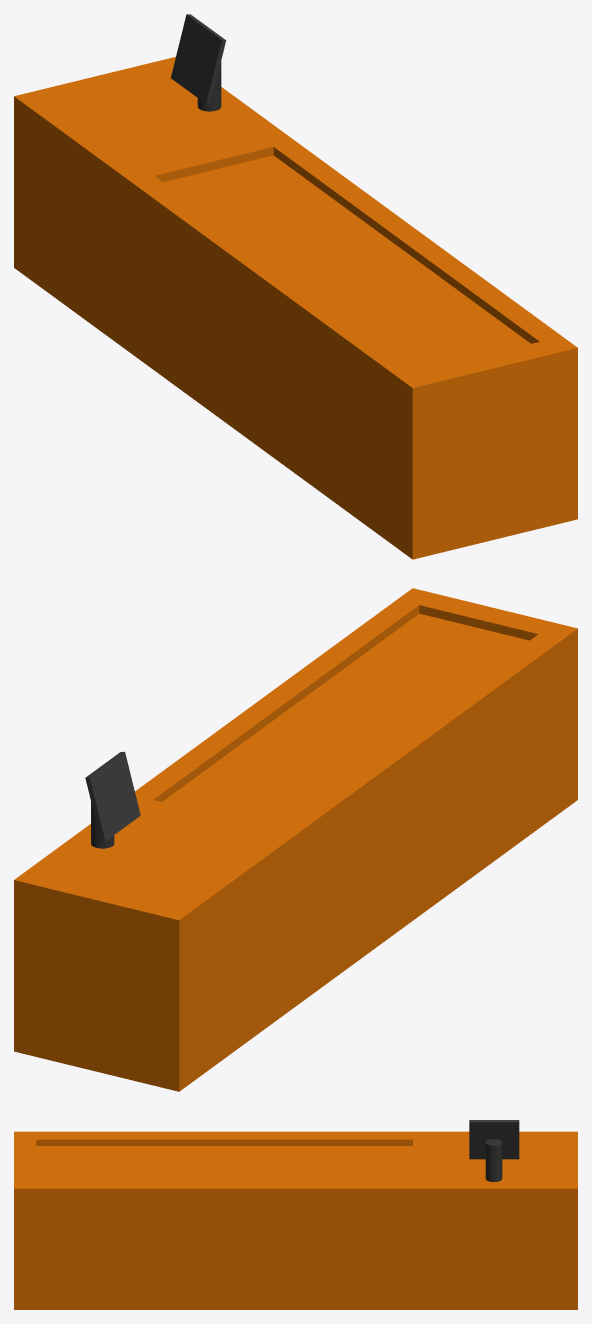
Rendered from cashthing.fbx.
3 views of the same model, one above another, from view 1: azimuth 30°, elevation 25°; view 2: azimuth 150°, elevation 25°; view 3: azimuth 270°, elevation 25° (orthographic). The views are drawn at different scales.
Parts seen in each view (by area): view 1: Cube, Cube.001; view 2: Cube, Cube.001; view 3: Cube, Cube.001, Cylinder.
Boxes of the visible parts, x1,y1,x2,y2 form: Cube: (14, 57, 577, 559); Cube.001: (171, 14, 225, 103); Cube: (14, 588, 577, 1091); Cube.001: (85, 751, 140, 841); Cube: (14, 1131, 577, 1309); Cube.001: (469, 1120, 519, 1159); Cylinder: (485, 1139, 502, 1181).
Bounding box in the file's own units: 130 × 189 × 542.
